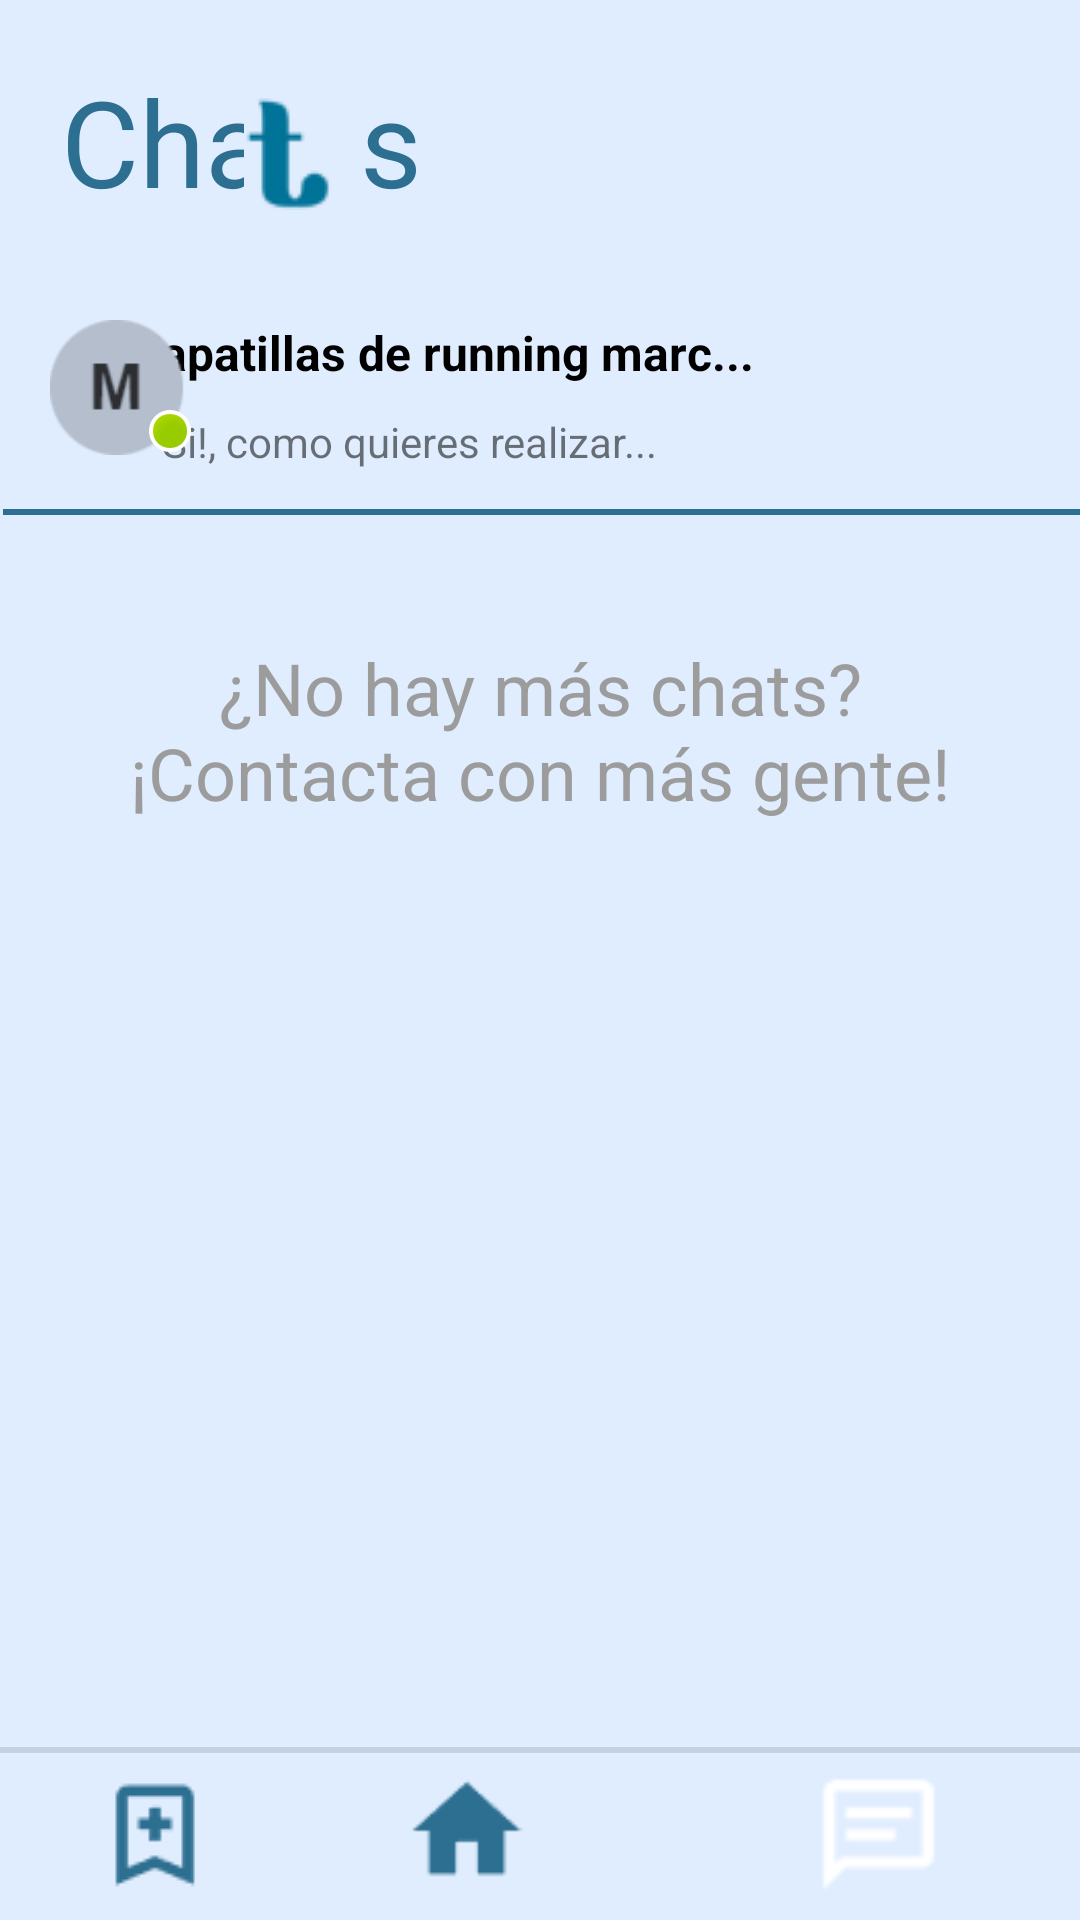

Where to tap for icons on this 1080x1920 app screen, as point (x, y):
chatblanco: point (879, 1833)
guardar: point (155, 1834)
home: point (467, 1829)
